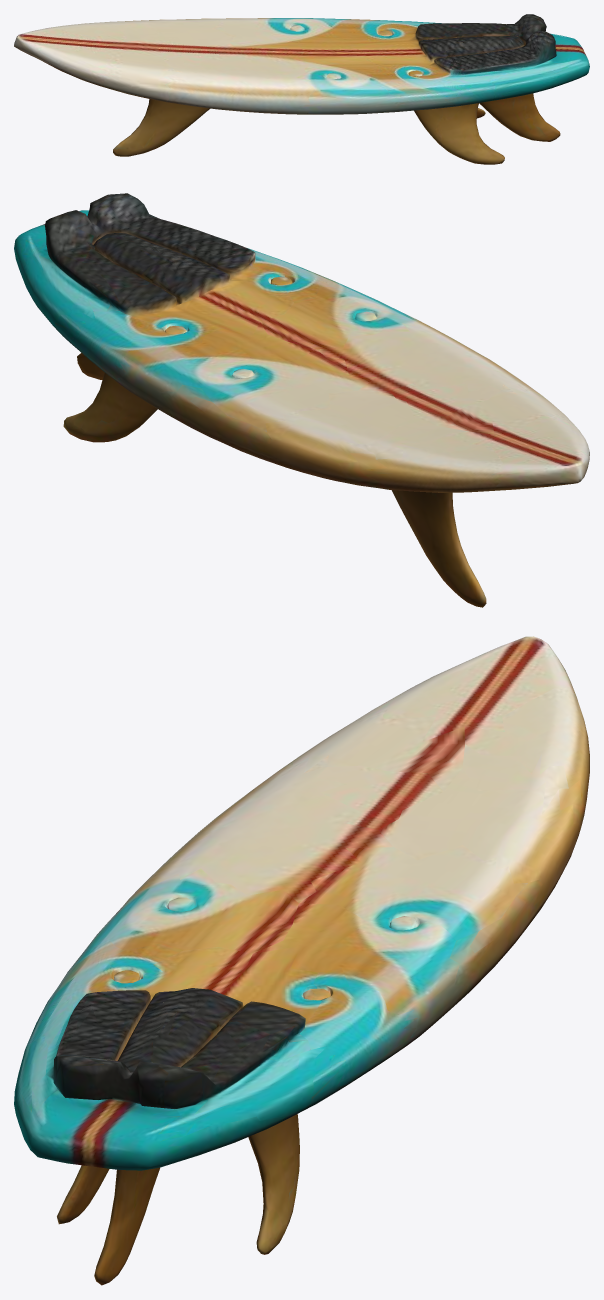
File: surfboard_3d.glb
The picture shows the model from 3 angles, top to bottom: view 1: azimuth 30°, elevation 25°; view 2: azimuth 150°, elevation 25°; view 3: azimuth 270°, elevation 25°; orthographic projection. The views are drawn at different scales.
Visible parts, largest first — view 1: tripo_node_d7f7a789-5029-4b95-933b-2f62007aee00; view 2: tripo_node_d7f7a789-5029-4b95-933b-2f62007aee00; view 3: tripo_node_d7f7a789-5029-4b95-933b-2f62007aee00.
Boxes of the visible parts, x1,y1,x2,y2 form: tripo_node_d7f7a789-5029-4b95-933b-2f62007aee00: (14, 14, 589, 164); tripo_node_d7f7a789-5029-4b95-933b-2f62007aee00: (14, 193, 589, 607); tripo_node_d7f7a789-5029-4b95-933b-2f62007aee00: (14, 636, 589, 1285).
Bounding box in the file's own units: 1 × 0.2623 × 0.5554.
Materials: 1 (1 with a texture image).
